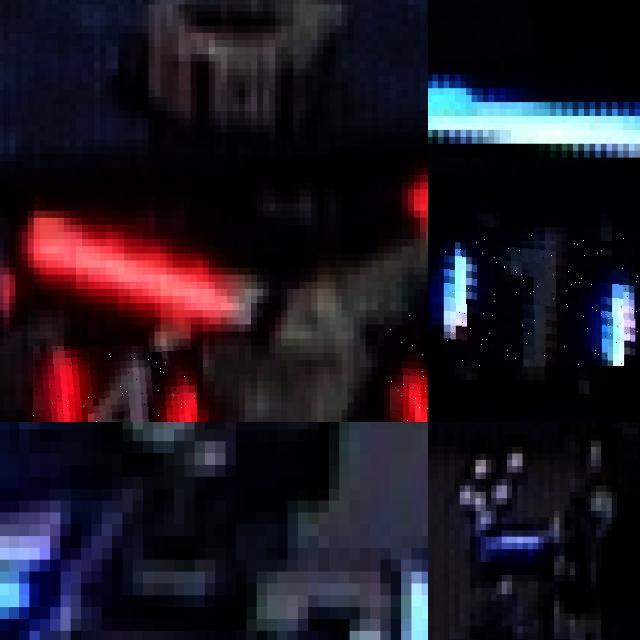B1: (443, 234, 640, 366)
R4: (33, 345, 196, 422), (389, 303, 428, 422)
